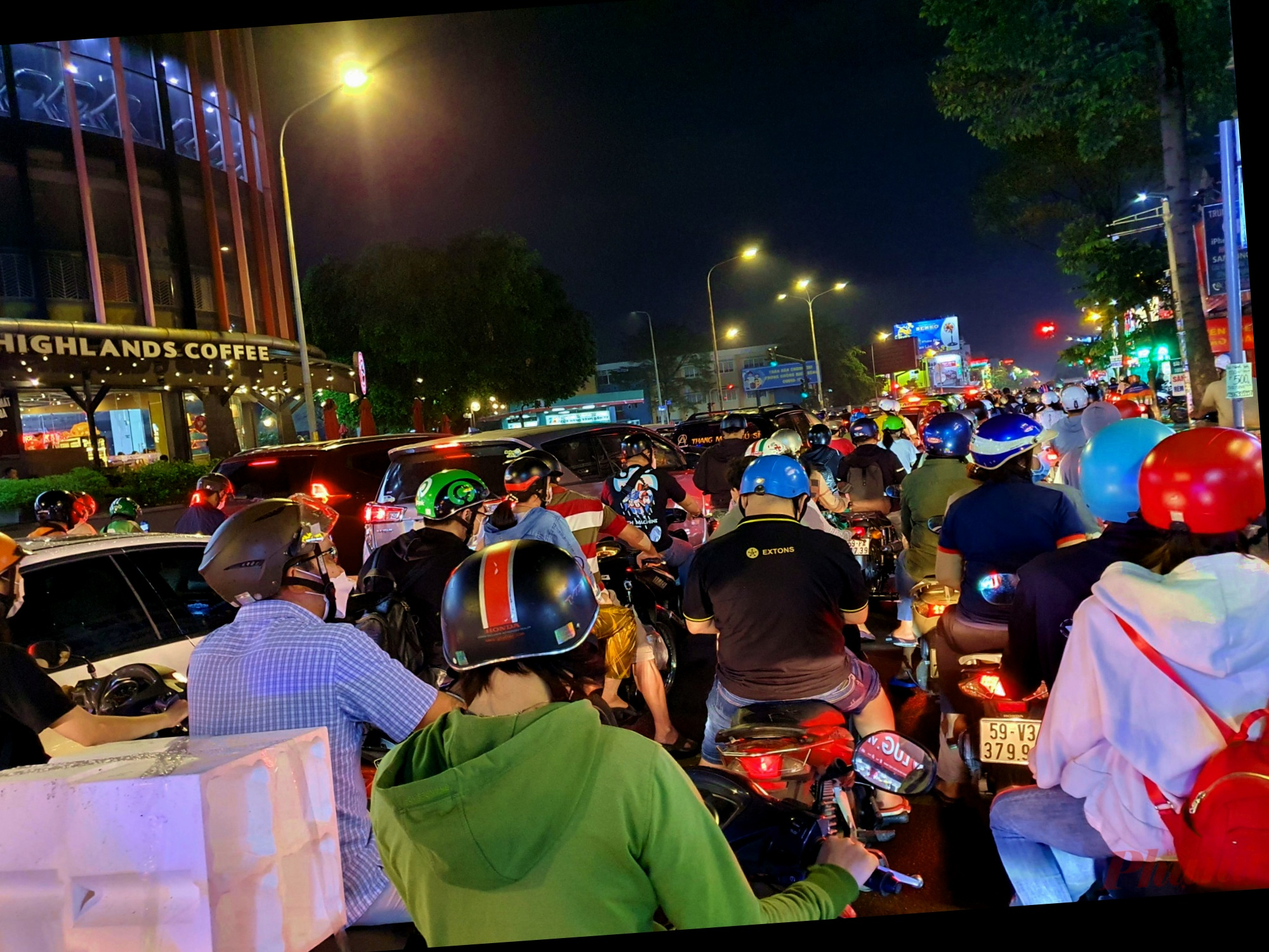Bien-so: (959, 757, 1013, 812)
